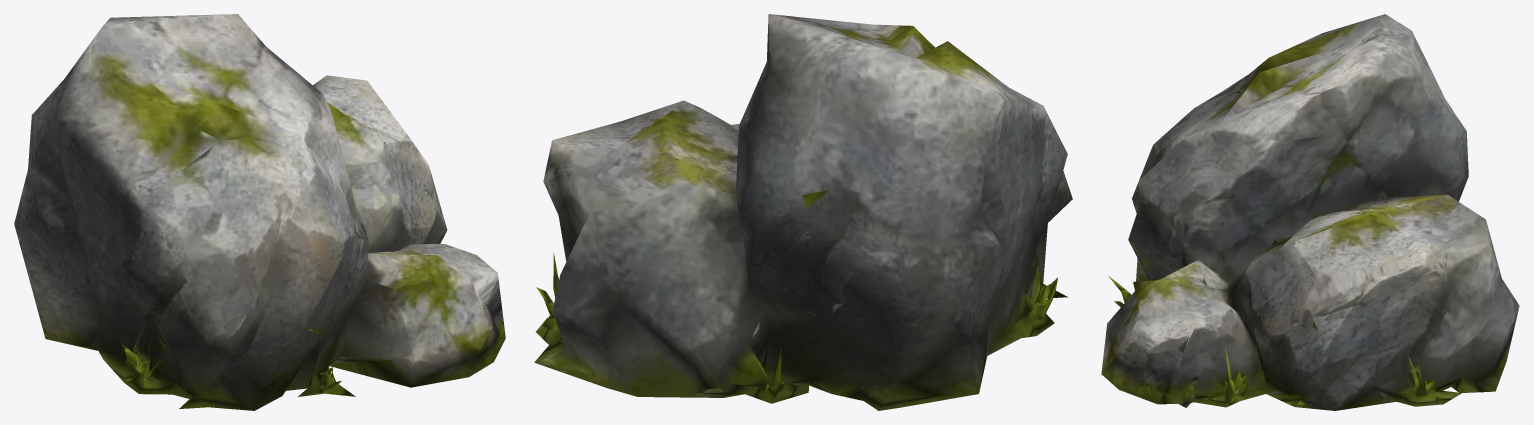
File: w_rock.glb
3 views of the same model, side by side, from view 1: azimuth 30°, elevation 25°; view 2: azimuth 150°, elevation 25°; view 3: azimuth 270°, elevation 25° (orthographic). The views are drawn at different scales.
Parts seen in each view (by area): view 1: tripo_node_68680446-daf0-4076-aa1c-71b9612b0462; view 2: tripo_node_68680446-daf0-4076-aa1c-71b9612b0462; view 3: tripo_node_68680446-daf0-4076-aa1c-71b9612b0462.
Part boxes in pixels (bbox=[...]): tripo_node_68680446-daf0-4076-aa1c-71b9612b0462: bbox=[14, 14, 505, 410]; tripo_node_68680446-daf0-4076-aa1c-71b9612b0462: bbox=[534, 14, 1072, 410]; tripo_node_68680446-daf0-4076-aa1c-71b9612b0462: bbox=[1101, 14, 1519, 410].
Bounding box in the file's own units: 0.9447 × 0.6927 × 0.9886.
Materials: 1 (1 with a texture image).
